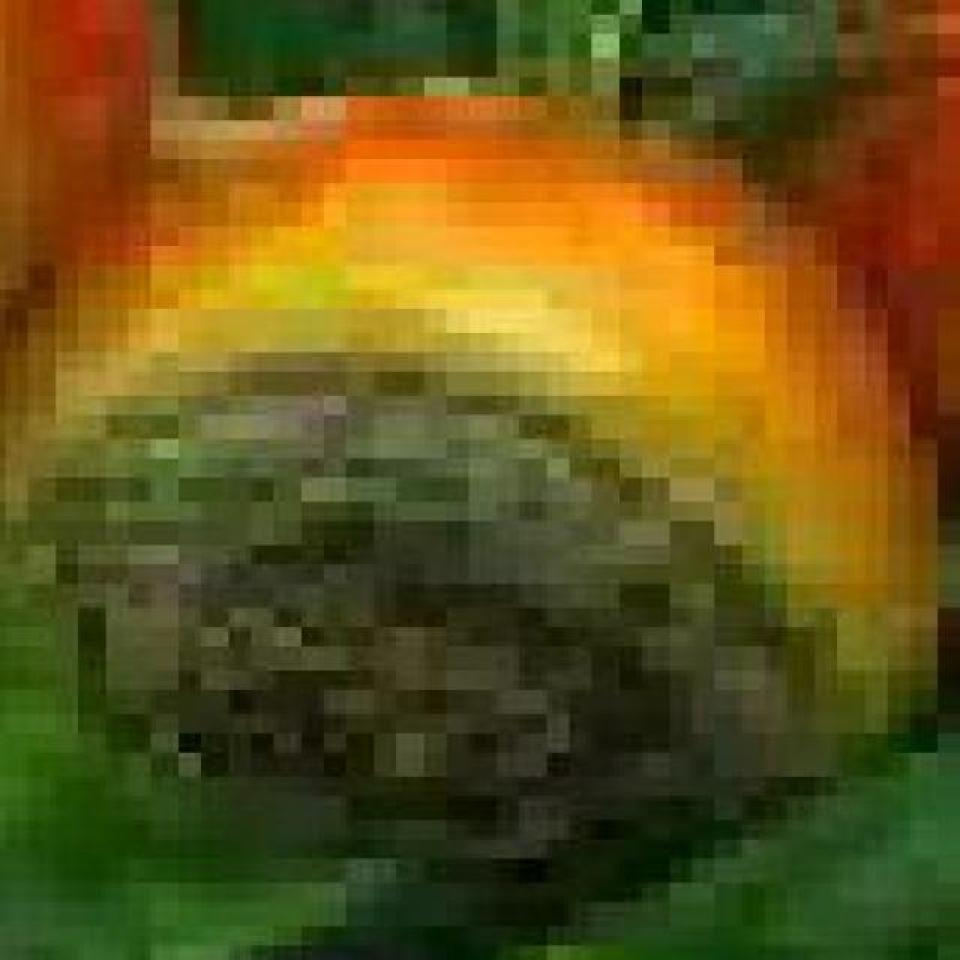Blossom_end_rot: (27, 231, 908, 960)
